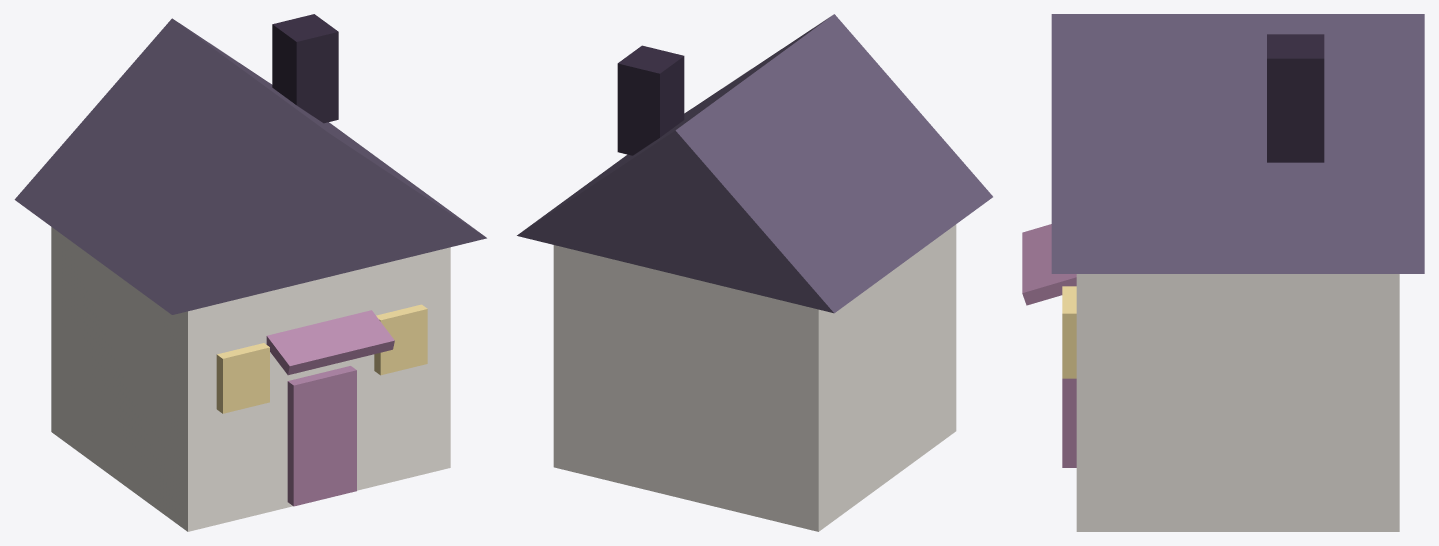
File: small-house.glb
3 renders of one model, left to right at view 1: azimuth 30°, elevation 25°; view 2: azimuth 150°, elevation 25°; view 3: azimuth 270°, elevation 25°, orthographic. The views are drawn at different scales.
Parts seen in each view (by area): view 1: city-small-house; view 2: city-small-house; view 3: city-small-house.
Boxes of the visible parts, x1=… form: city-small-house: x1=14, y1=14, x2=486, y2=531; city-small-house: x1=517, y1=14, x2=992, y2=531; city-small-house: x1=1022, y1=14, x2=1424, y2=531.
Size of the model in its own units: 0.6 by 0.7 by 0.5611.
